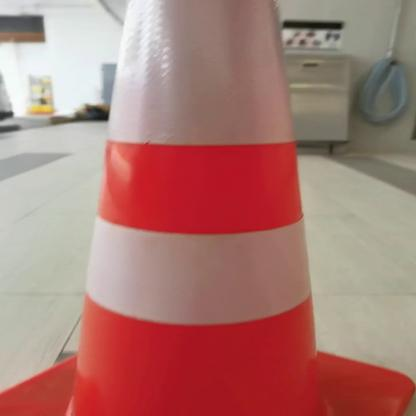cone: (10, 0, 414, 416)
